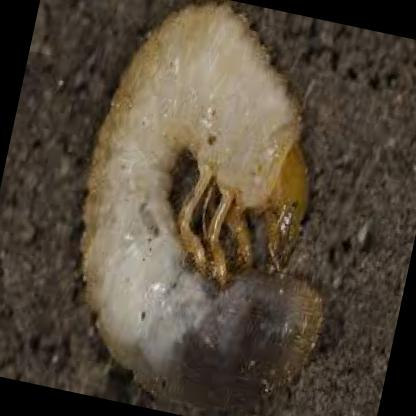root grubs: (79, 0, 319, 415)
